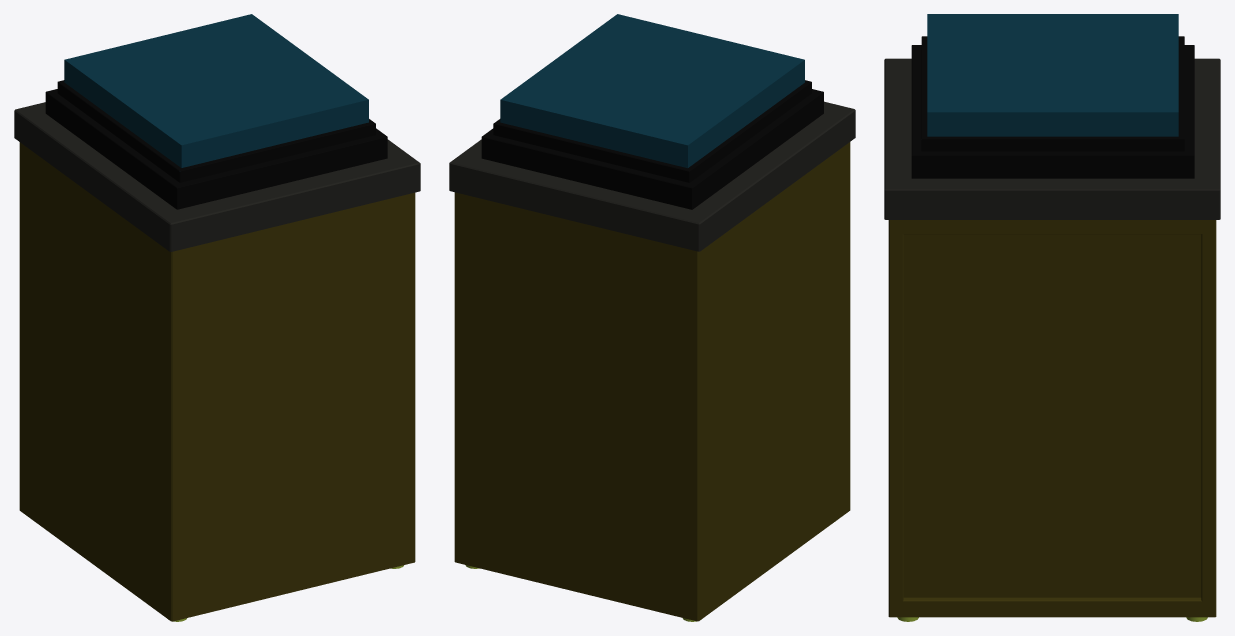
The model's file is SM_Display.fbx.
3 views of the same model, side by side, from view 1: azimuth 30°, elevation 25°; view 2: azimuth 150°, elevation 25°; view 3: azimuth 270°, elevation 25° (orthographic). The views are drawn at different scales.
Visible parts, largest first — view 1: Display; view 2: Display; view 3: Display.
Part boxes in pixels (left/top/right/bottom): Display: left=14, top=14, right=420, bottom=621; Display: left=449, top=14, right=855, bottom=621; Display: left=884, top=14, right=1220, bottom=621.
Bounding box in the file's own units: 81.21 × 143 × 87.83.
